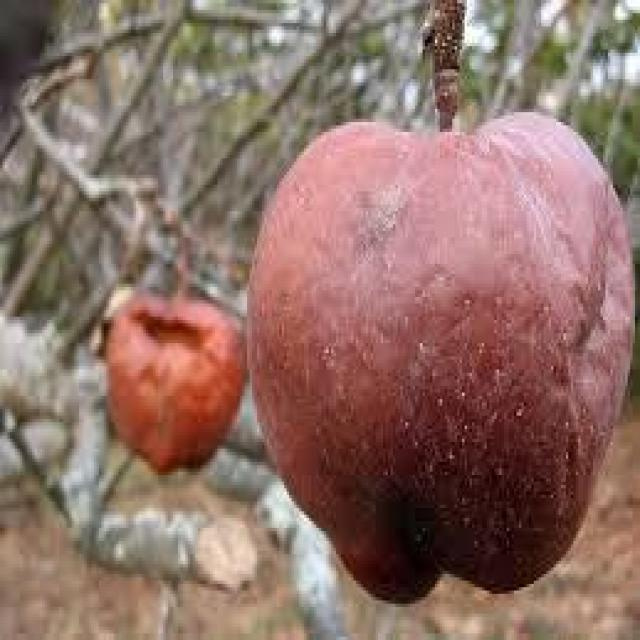Apple: (243, 112, 640, 605), (105, 287, 248, 480)
